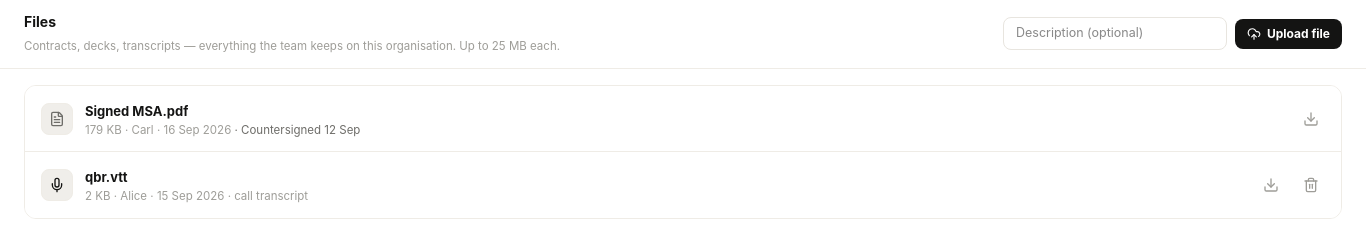
Test: FilesTab › offers delete to the uploader and to admins only
Expected: the button "Signed MSA.pdf" is shown, [85,102,188,122]
Click the button named "Delete qbr.vtt".
click(1311, 185)  # box [1297,171,1325,199]
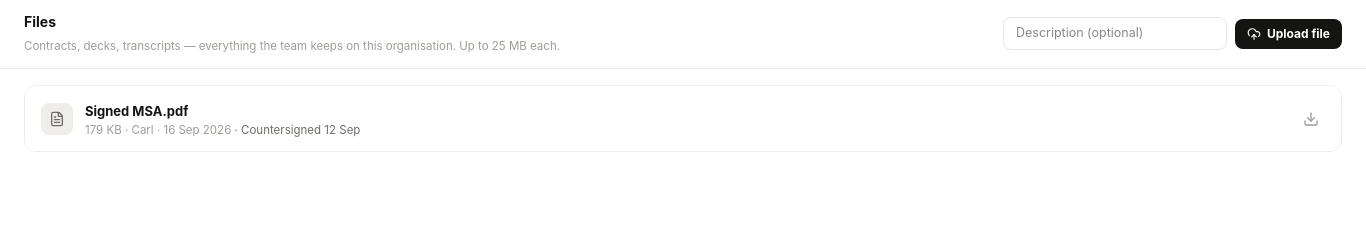
Expected: the button "qbr.vtt" is gone
